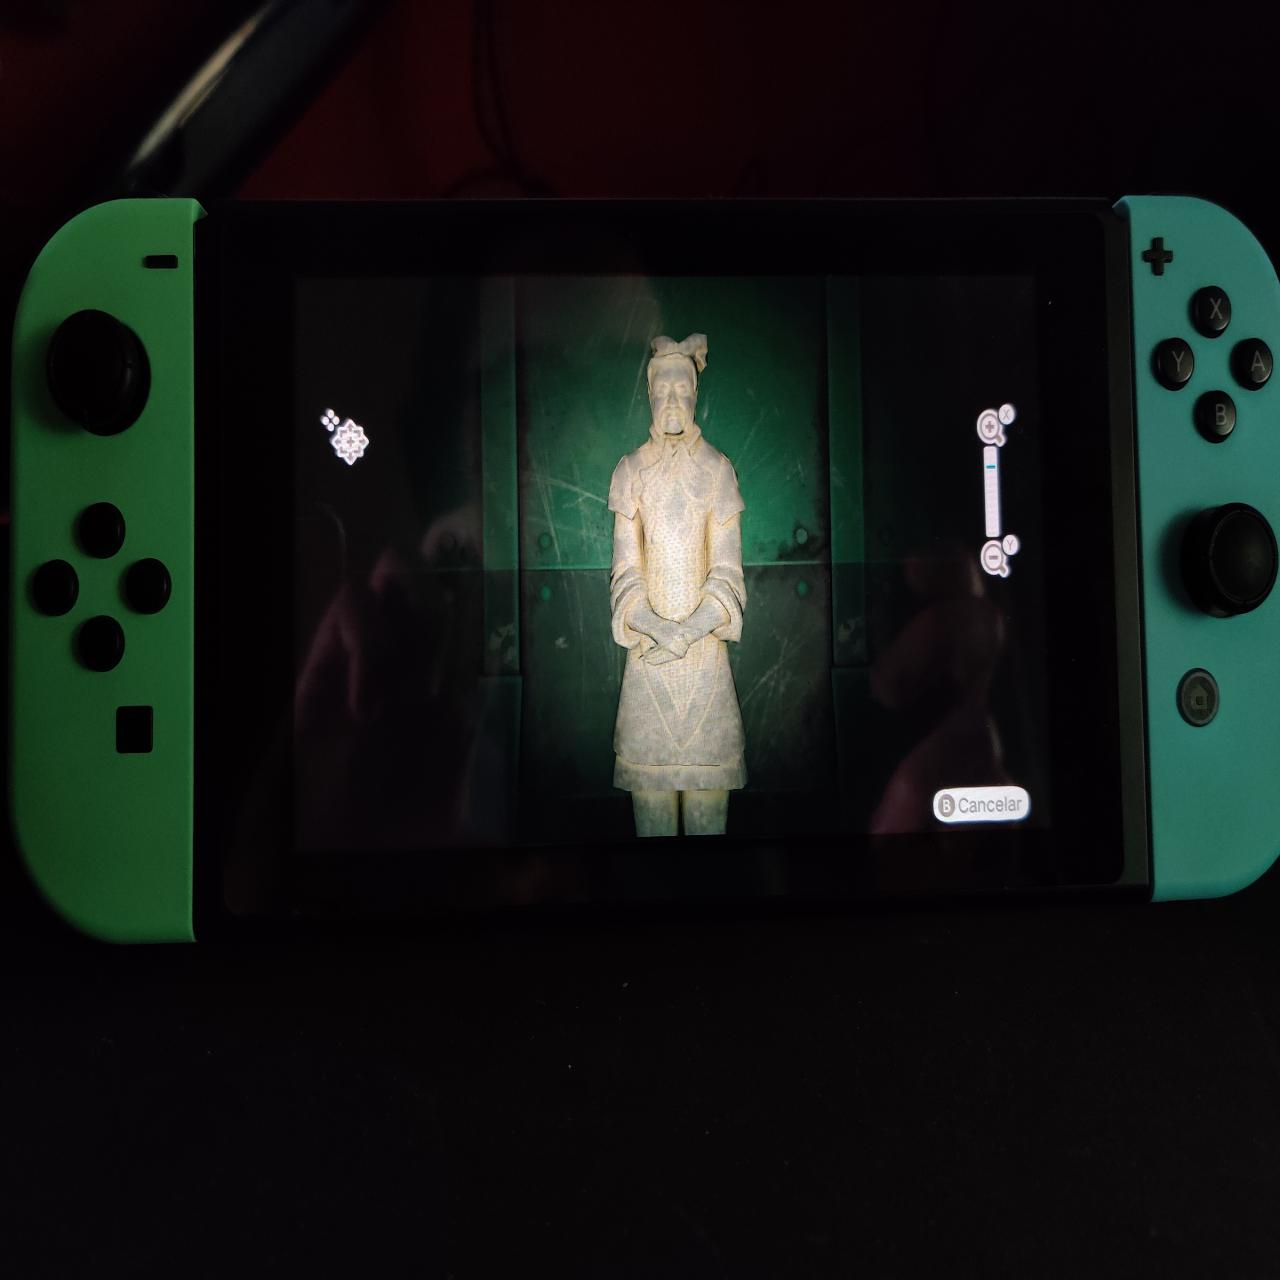Heibayo: (601, 320, 764, 840)
